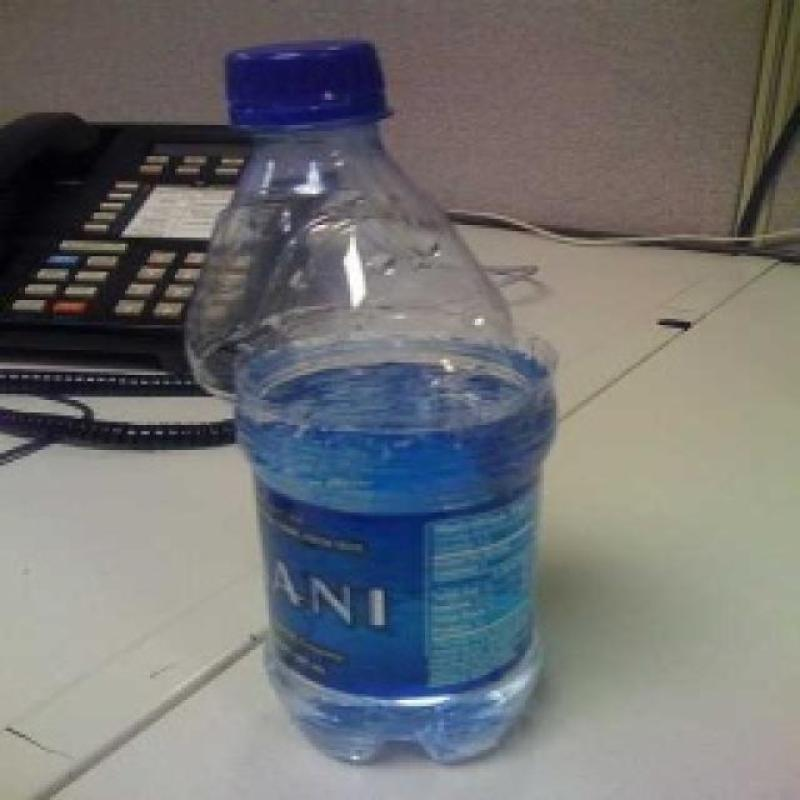botella: (186, 40, 554, 772)
